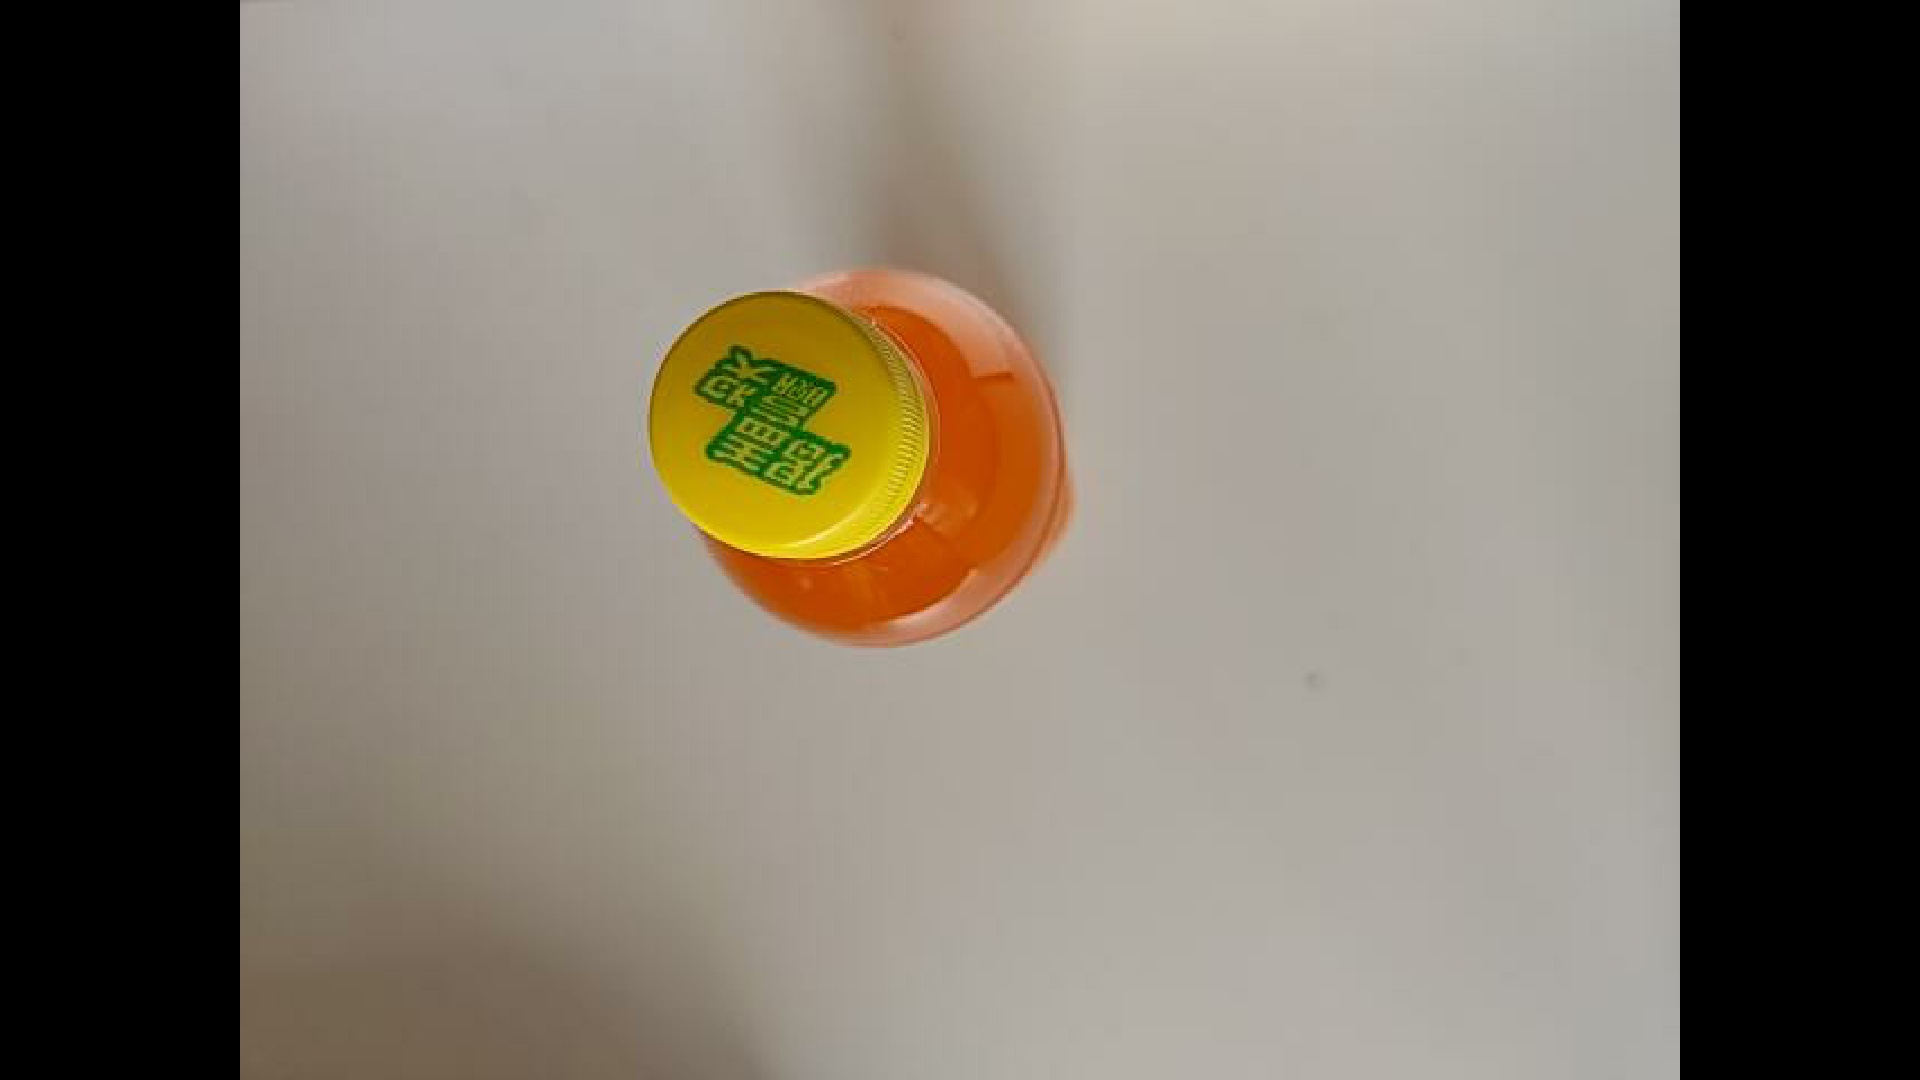fenta: (644, 262, 1073, 651)
